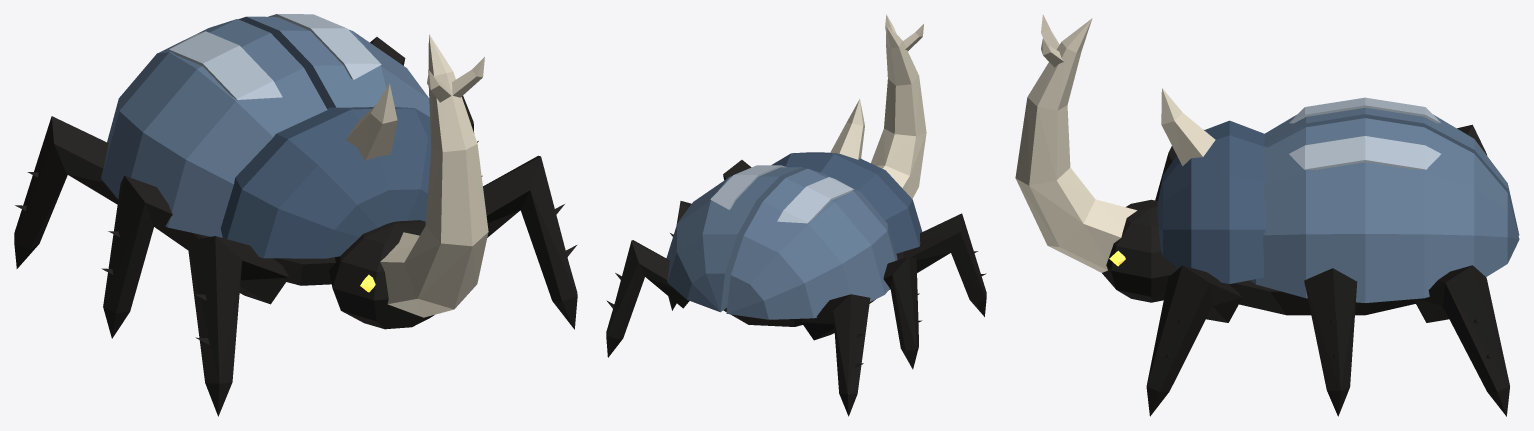
File: RhinoBeetle.fbx
The picture shows the model from 3 angles, left to right: view 1: azimuth 30°, elevation 25°; view 2: azimuth 150°, elevation 25°; view 3: azimuth 270°, elevation 25°; orthographic projection. The views are drawn at different scales.
Parts seen in each view (by area): view 1: Shell, Pronotum, Horn, LegR1, Body, LegL1, LegR3, Gloss, LegR2, Horns; view 2: Shell, Horn, Pronotum, LegR3, LegL3, LegR1, Gloss, LegR2, Horns, Body; view 3: Shell, Pronotum, Horn, Body, LegL1, LegL3, Gloss, LegL2, Horns.
Boxes of the visible parts, x1,y1,x2,y2 form: Shell: (101,16,429,237); Pronotum: (220,107,431,258); Horn: (380,34,488,317); LegR1: (187,236,289,416); Body: (193,220,434,329); LegL1: (483,155,577,329); LegR3: (14,116,118,268); Gloss: (168,14,381,99); LegR2: (101,175,198,338); Horns: (346,83,397,160); Shell: (666,167,897,319); Horn: (871,14,926,198); Pronotum: (771,152,922,253); LegR3: (801,294,870,416); LegL3: (606,240,689,357); LegR1: (903,213,986,316); Gloss: (710,165,853,223); LegR2: (869,256,922,369); Horns: (830,99,864,159); Body: (723,251,903,326); Shell: (1249,107,1519,302); Pronotum: (1157,120,1267,283); Horn: (1015,14,1137,272); Body: (1102,199,1415,315); LegL1: (1146,265,1242,416); LegL3: (1413,265,1509,416); Gloss: (1289,97,1440,169); LegL2: (1304,268,1357,416); Horns: (1161,88,1215,166).
Bounding box in the file's own units: 5.19 × 4.72 × 6.7.
